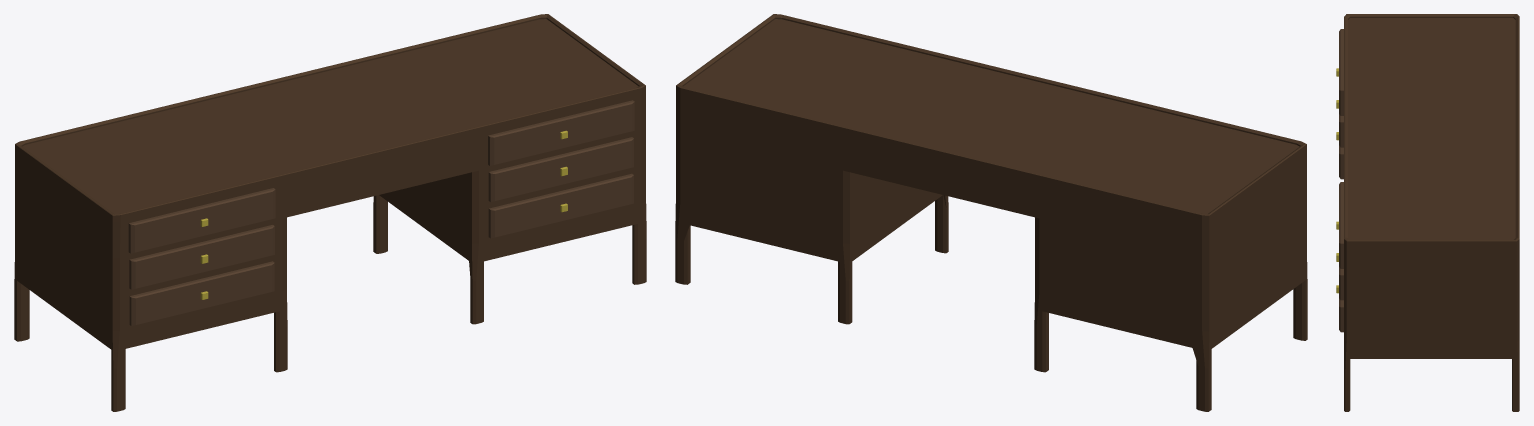
Rendered from Desk.fbx.
The picture shows the model from 3 angles, left to right: view 1: azimuth 30°, elevation 25°; view 2: azimuth 150°, elevation 25°; view 3: azimuth 270°, elevation 25°; orthographic projection. The views are drawn at different scales.
Visible parts, largest first — view 1: Desk; view 2: Desk; view 3: Desk.
Part boxes in pixels (<box>): Desk: <box>14,14,646,411</box>; Desk: <box>675,14,1307,411</box>; Desk: <box>1336,14,1519,411</box>.
Bounding box in the file's own units: 261 × 91.57 × 88.87.
